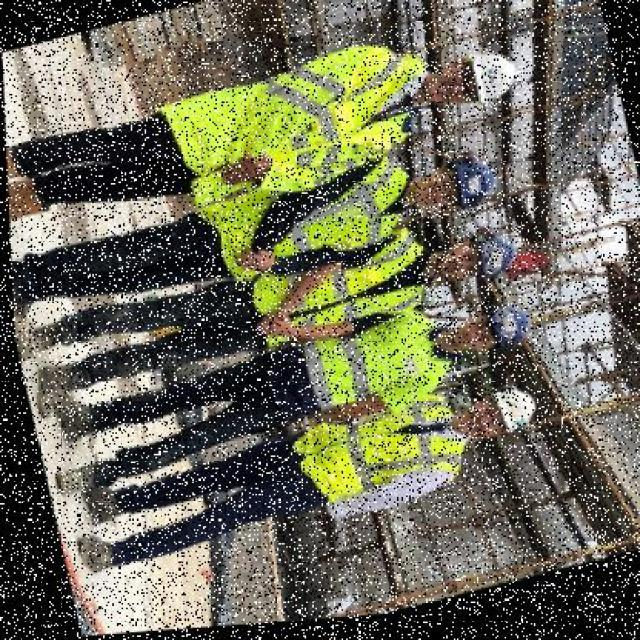helmet: (445, 40, 527, 118), (476, 382, 543, 454), (457, 228, 524, 295), (466, 300, 534, 361), (439, 152, 501, 216)
vest: (182, 43, 442, 205), (211, 155, 427, 285), (282, 394, 480, 526), (238, 232, 446, 352), (263, 309, 456, 429)
